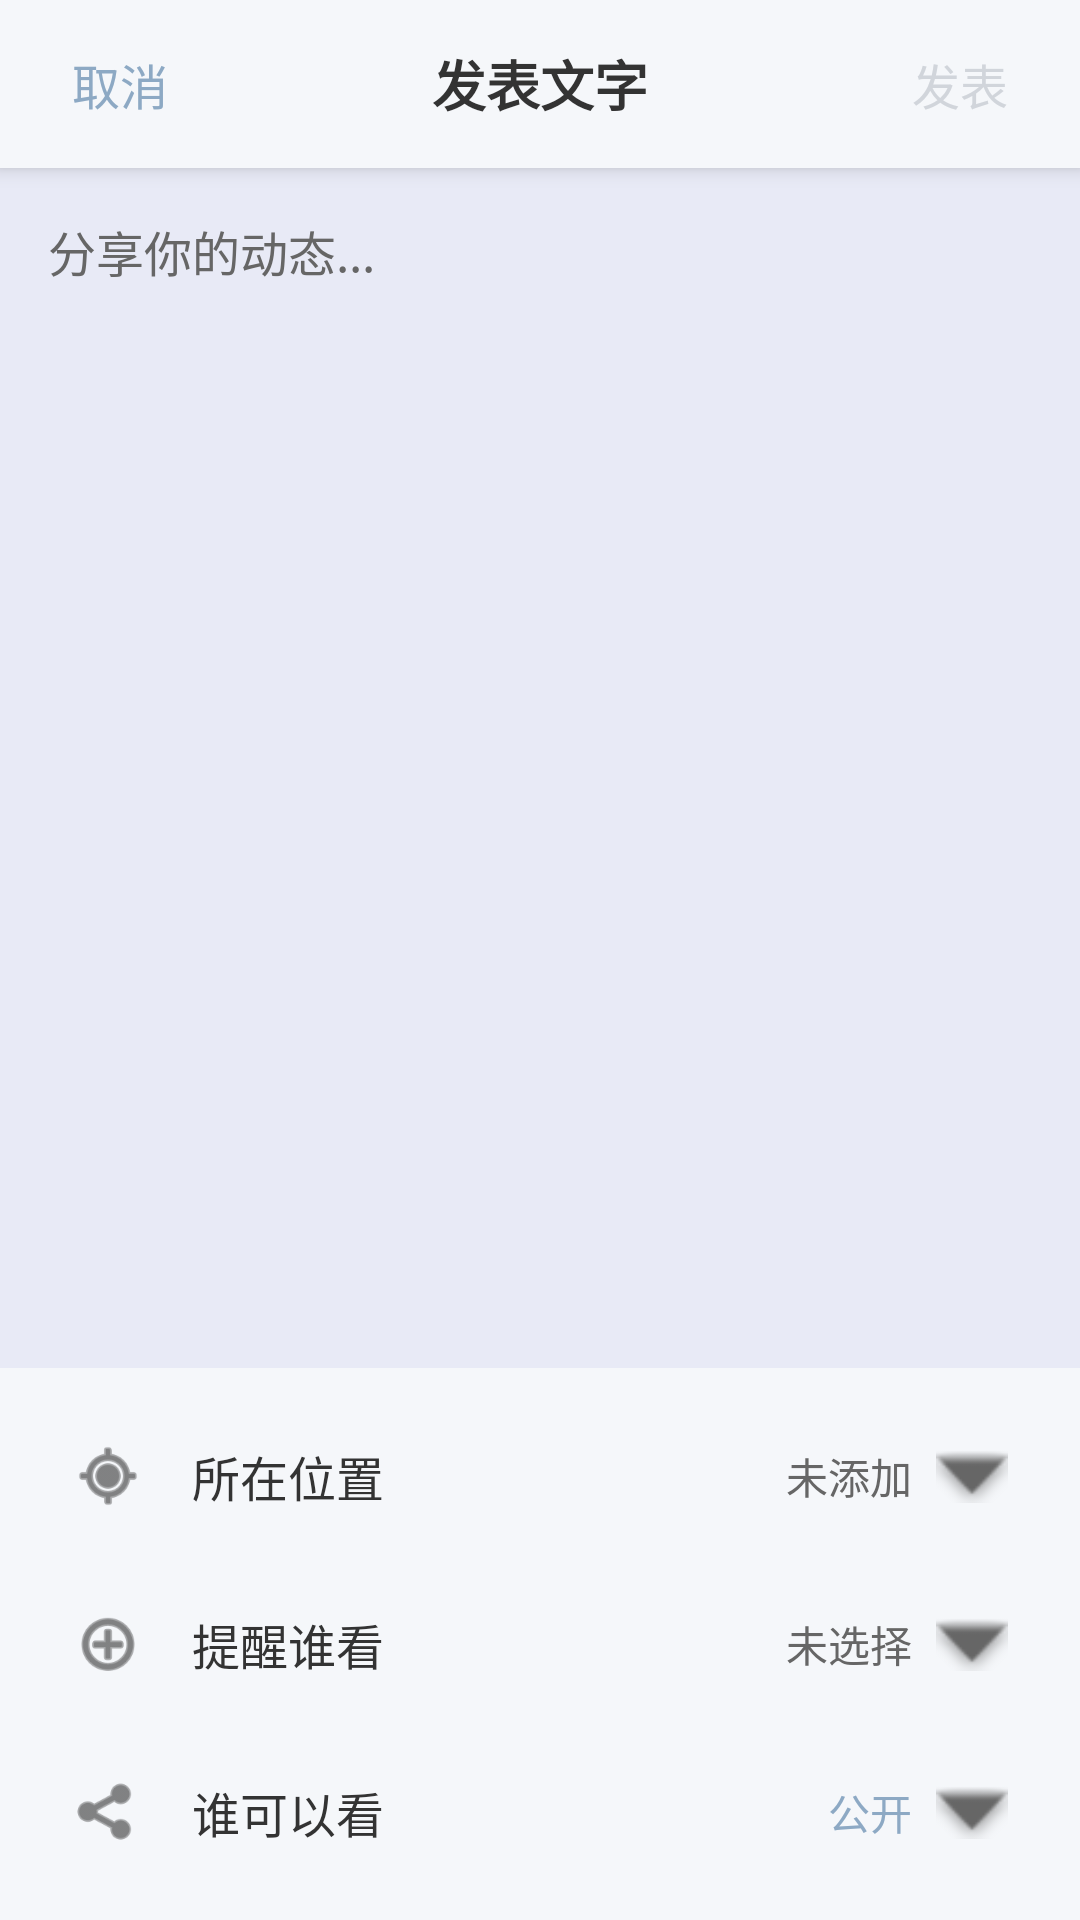

Icon bounding boxes for this 1080*1920 phone screenshot, format (x1, y1, x2, y2):
add: (81, 1618, 135, 1671)
arrow down float: (936, 1453, 1008, 1498), (936, 1621, 1008, 1666), (936, 1789, 1008, 1834)
mylocation: (79, 1447, 137, 1505)
share: (77, 1783, 131, 1840)
